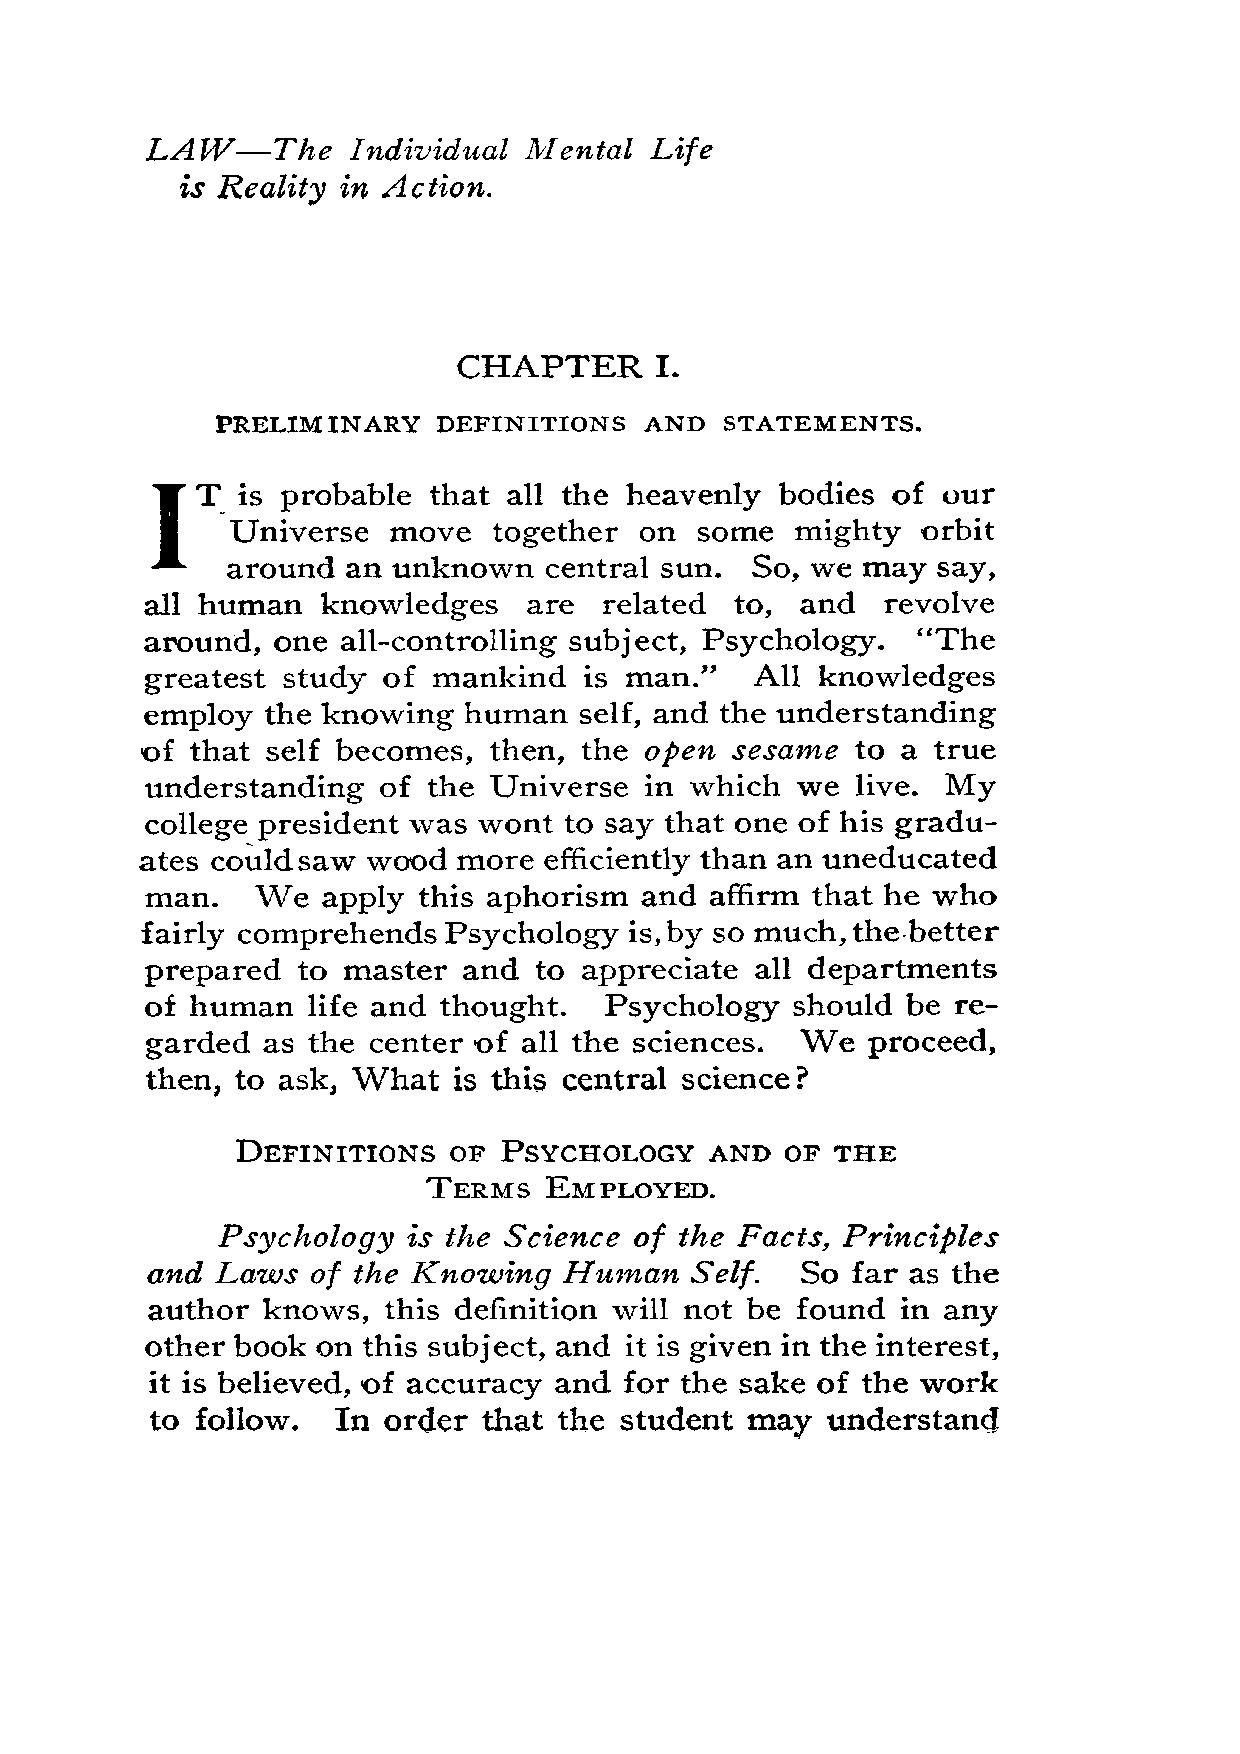chapter: (211, 352, 923, 436), (234, 1135, 899, 1201), (144, 133, 715, 207)
content: (136, 478, 998, 1095), (144, 1223, 1000, 1439)
